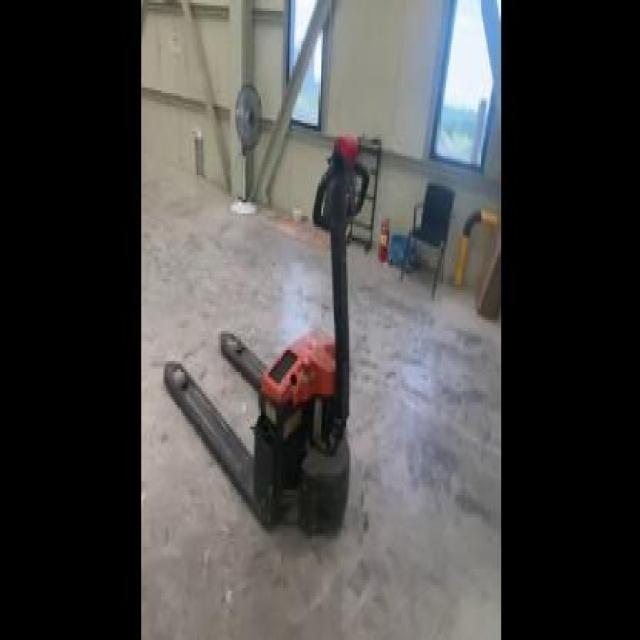robot: (160, 134, 358, 539)
